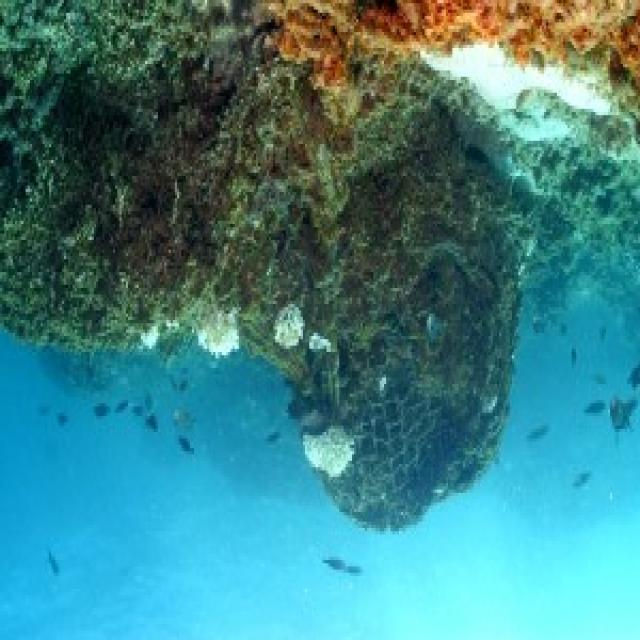Bleached: (183, 282, 240, 361), (304, 423, 357, 479), (273, 301, 304, 355), (308, 333, 336, 356), (481, 390, 499, 418), (142, 324, 161, 348), (523, 237, 540, 263), (515, 264, 529, 287), (379, 377, 392, 394)
Healthy: (1, 1, 357, 281), (359, 131, 507, 503)
